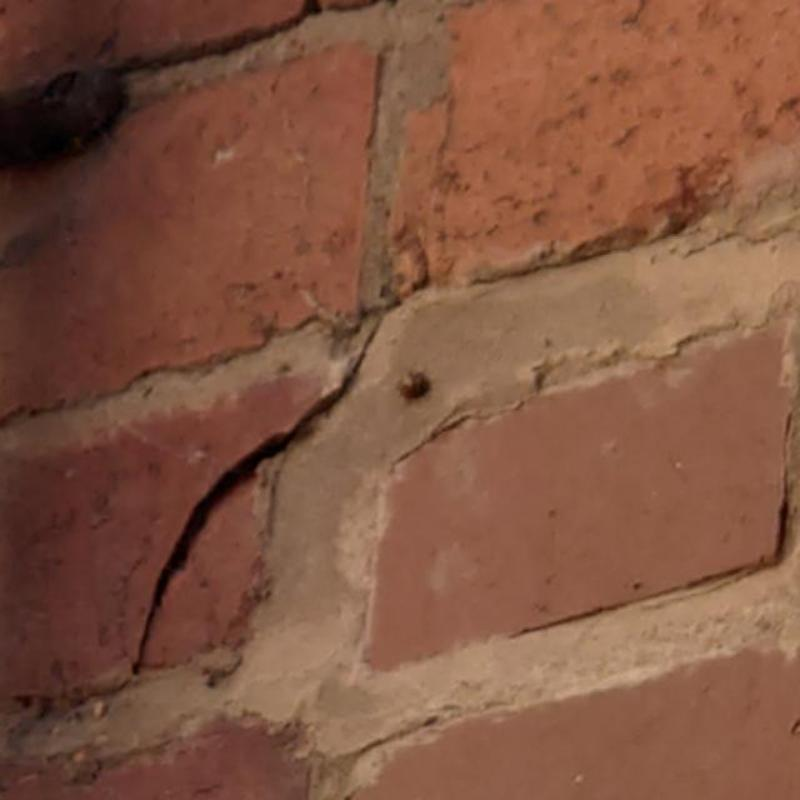pothole: (133, 319, 377, 671), (114, 0, 380, 75)
